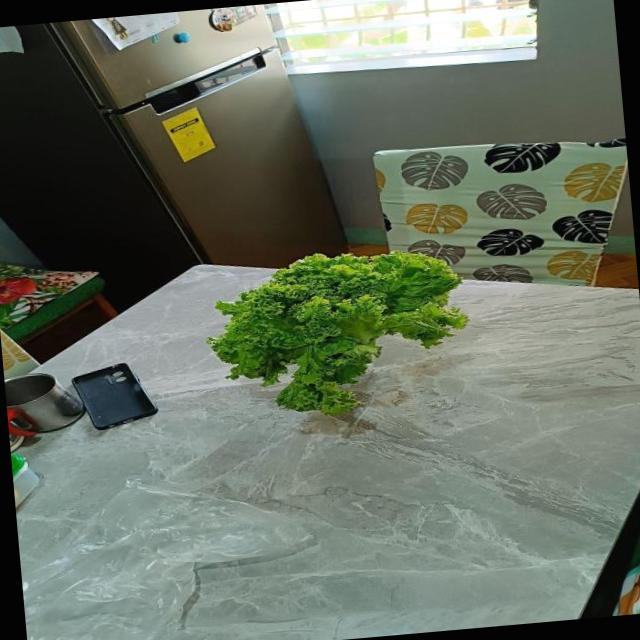Lettuce-Ready-to-Harvest: (208, 250, 467, 414)
